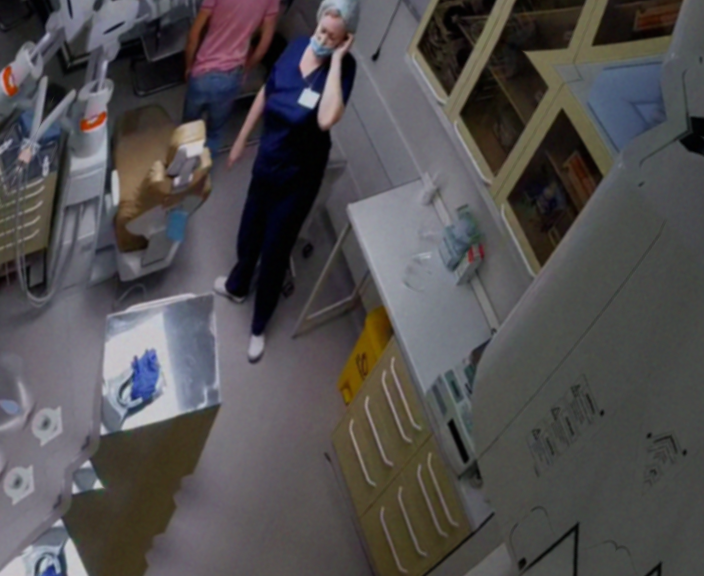Empty: (54, 88, 237, 297)
